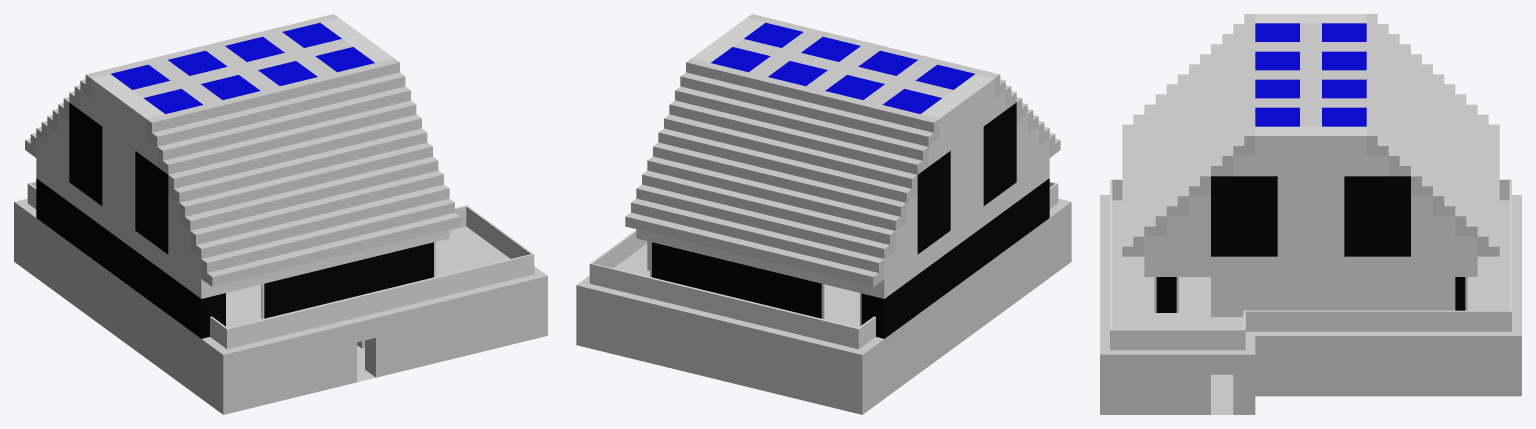
Rendered from house.glb.
3 views of the same model, side by side, from view 1: azimuth 30°, elevation 25°; view 2: azimuth 150°, elevation 25°; view 3: azimuth 270°, elevation 25° (orthographic).
Visible parts, largest first — view 1: Cube.002, third, first, Cube.004, second, Cube.006, Cube.003; view 2: Cube.003, third, first, Cube.004, Cube.006, second, Cube.002; view 3: third, first, Cube.002, Cube.003, second, Cube.004, Cube.006, Plane.002.
Boxes of the visible parts, x1,y1,x2,y2 form: Cube.002: (146,58,460,286); third: (27,18,534,349); first: (14,202,547,414); Cube.004: (111,23,374,113); second: (14,198,547,354); Cube.006: (133,32,352,104); Cube.003: (25,14,338,157); Cube.003: (625,58,939,286); third: (589,18,1058,349); first: (576,202,1071,414); Cube.004: (711,22,974,113); Cube.006: (733,32,952,104); second: (576,198,1071,354); Cube.002: (747,14,1060,157); third: (1110,14,1511,350); first: (1100,336,1521,414); Cube.002: (1122,14,1255,256); Cube.003: (1366,14,1499,256); second: (1100,195,1521,354); Cube.004: (1255,23,1366,126); Cube.006: (1255,23,1366,126); Plane.002: (1211,374,1233,414).
Bounding box in the file's own units: 17 × 12 × 19.
